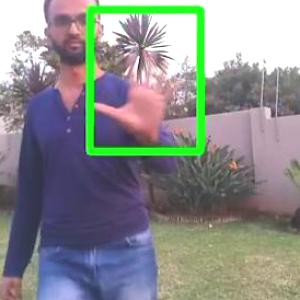follow_hand: (87, 43, 190, 138)
